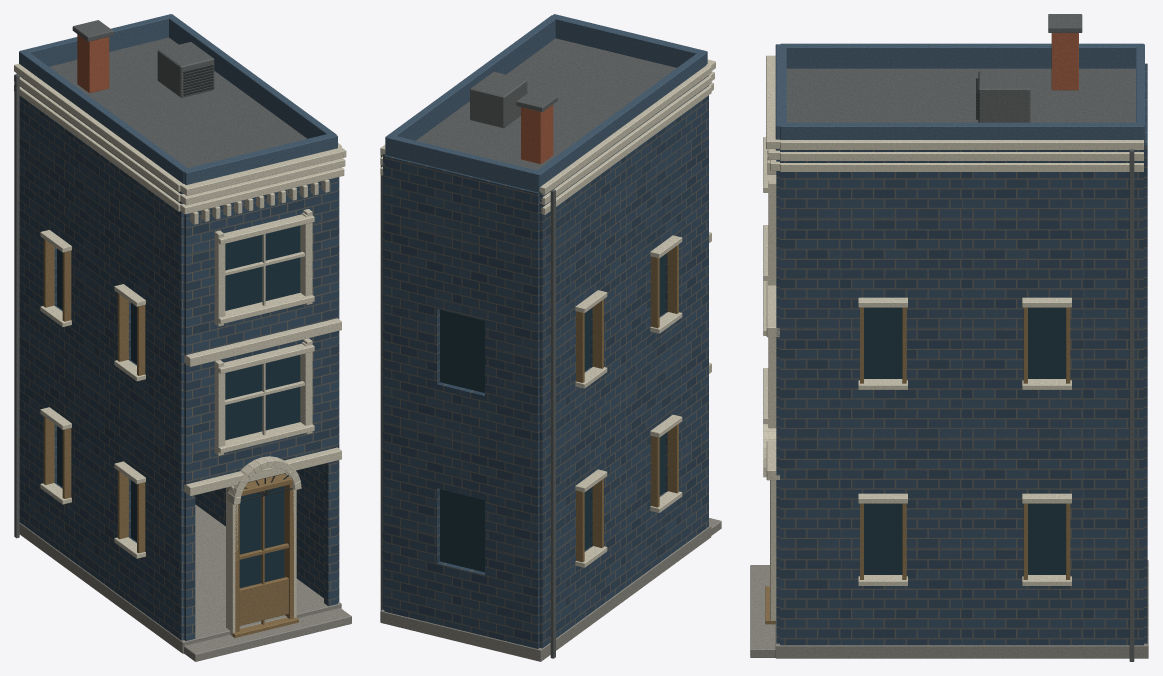
The model's file is OFFC11_lod1.glb.
3 views of the same model, side by side, from view 1: azimuth 30°, elevation 25°; view 2: azimuth 150°, elevation 25°; view 3: azimuth 270°, elevation 25° (orthographic). The views are drawn at different scales.
Visible parts, largest first — view 1: OFFC11_LOD1; view 2: OFFC11_LOD1; view 3: OFFC11_LOD1.
Part boxes in pixels (bbox=[...]): OFFC11_LOD1: bbox=[14, 14, 351, 661]; OFFC11_LOD1: bbox=[380, 14, 721, 661]; OFFC11_LOD1: bbox=[750, 14, 1148, 661].
Size of the model in its own units: 3.71 by 10.45 by 6.57.
Materials: 10 (8 with a texture image).
